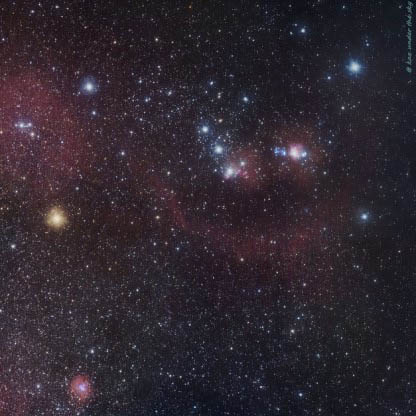Orion: (41, 200, 78, 240), (354, 205, 380, 235), (339, 51, 366, 79), (220, 160, 247, 185), (73, 75, 94, 94), (207, 139, 229, 156), (195, 118, 212, 137)
